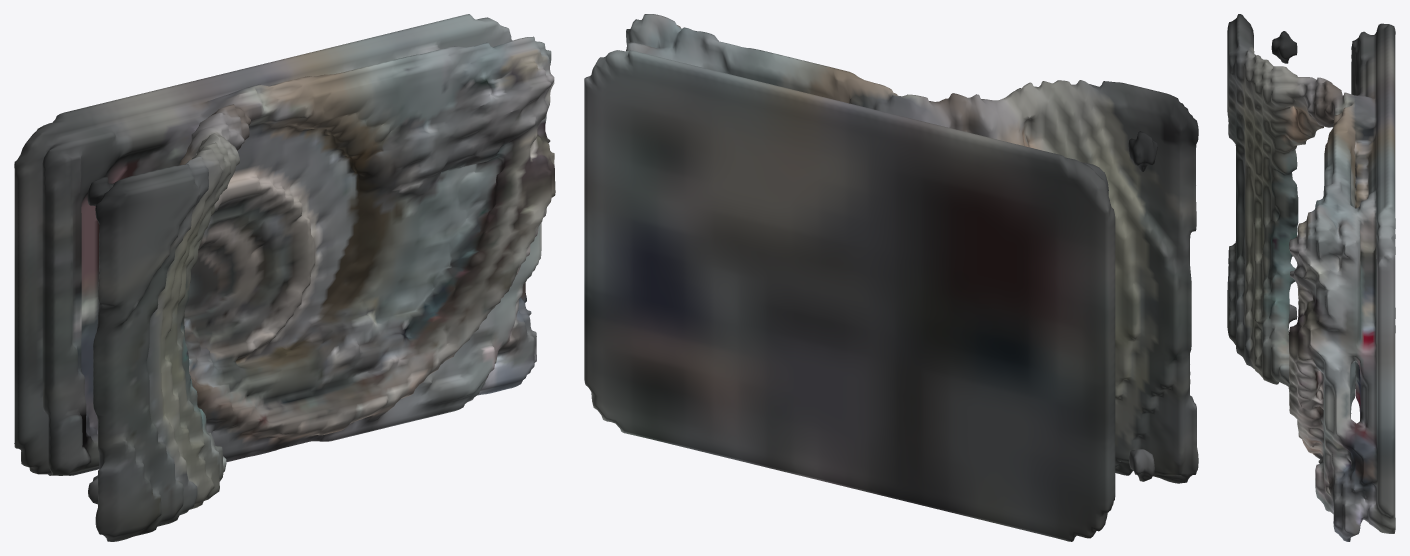
File: photo-spiral-stairs.glb
3 views of the same model, side by side, from view 1: azimuth 30°, elevation 25°; view 2: azimuth 150°, elevation 25°; view 3: azimuth 270°, elevation 25° (orthographic). The views are drawn at different scales.
Visible parts, largest first — view 1: photo-spiral-stairs; view 2: photo-spiral-stairs; view 3: photo-spiral-stairs.
Part boxes in pixels (box(x1,y1,x2,y2)): photo-spiral-stairs: box(14, 14, 555, 541); photo-spiral-stairs: box(584, 14, 1198, 541); photo-spiral-stairs: box(1227, 14, 1395, 541).
Bounding box in the file's own units: 0.1 × 0.0695 × 0.0323.
